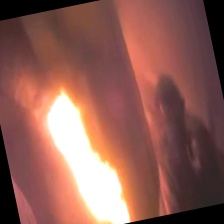fire: (48, 85, 128, 224)
